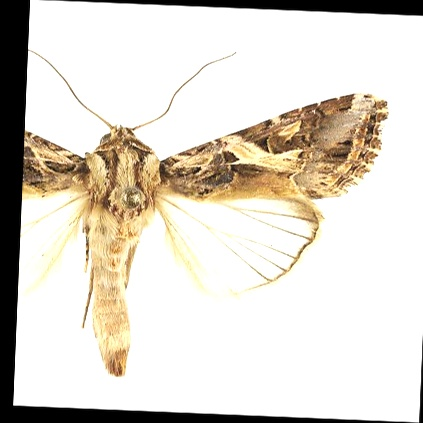Spodoptera litura: (21, 49, 385, 381)
